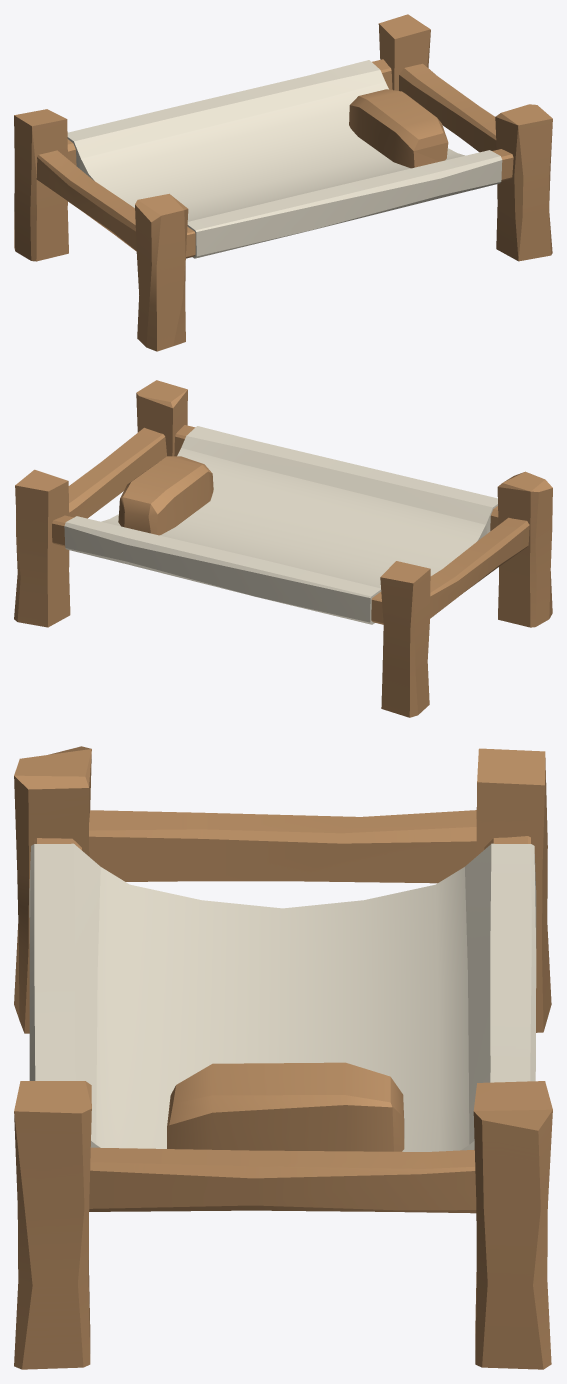
File: Bed_B.fbx
3 renders of one model, top to bottom at view 1: azimuth 30°, elevation 25°; view 2: azimuth 150°, elevation 25°; view 3: azimuth 270°, elevation 25°, orthographic. The views are drawn at different scales.
Parts seen in each view (by area): view 1: Bed_B; view 2: Bed_B; view 3: Bed_B.
Part boxes in pixels (x1,y1,x2,y2): Bed_B: [14, 14, 552, 351]; Bed_B: [14, 380, 552, 717]; Bed_B: [14, 746, 552, 1369].
Bounding box in the file's own units: 233 × 75.46 × 144.
